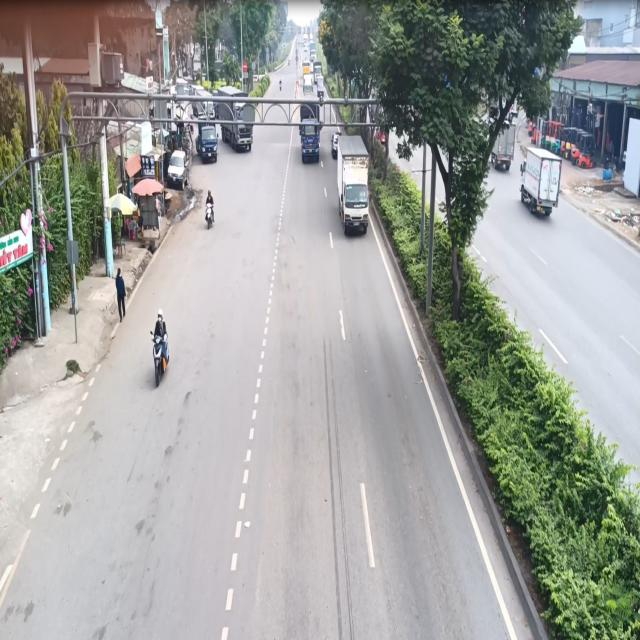motor: (152, 303, 172, 389), (200, 186, 219, 236)
truck: (337, 135, 372, 238), (298, 97, 324, 173)
